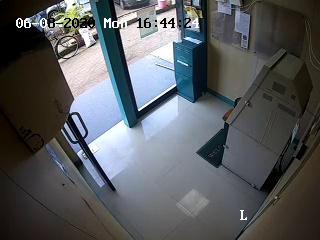open: (36, 6, 137, 205)
